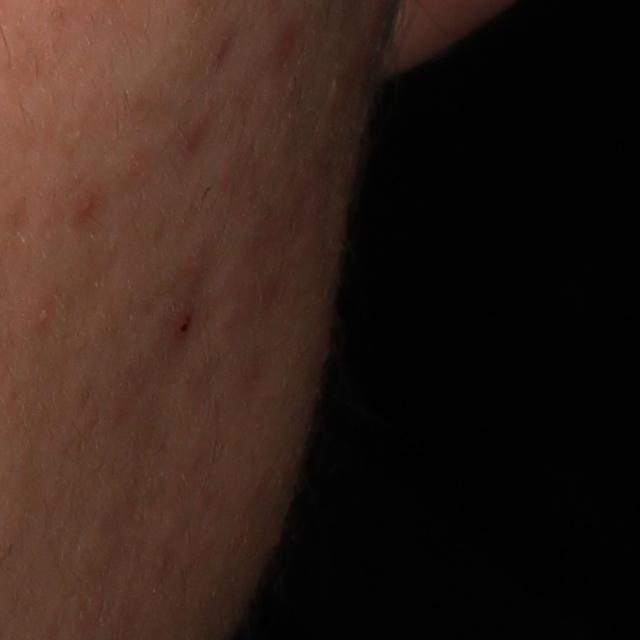papule: (168, 309, 196, 344), (76, 192, 101, 220)
